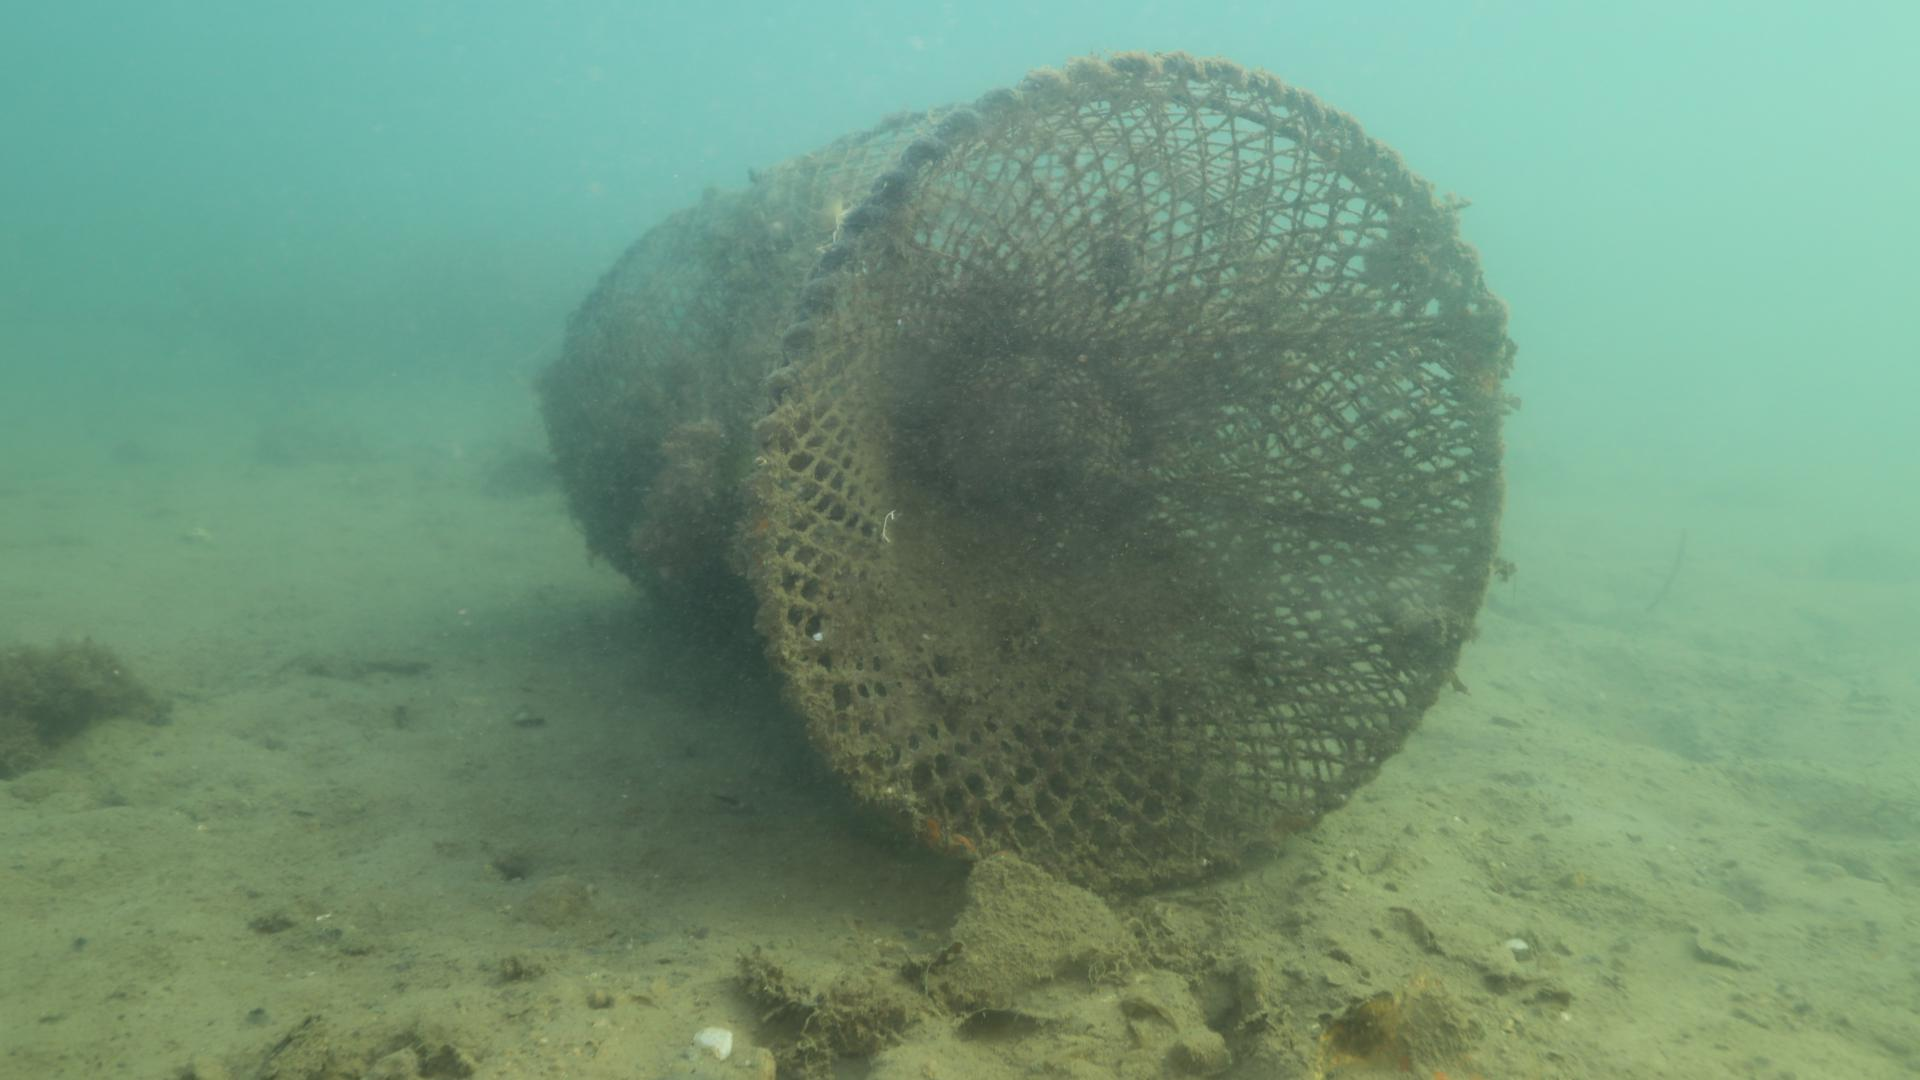spring fish trap: (539, 54, 1505, 895)
